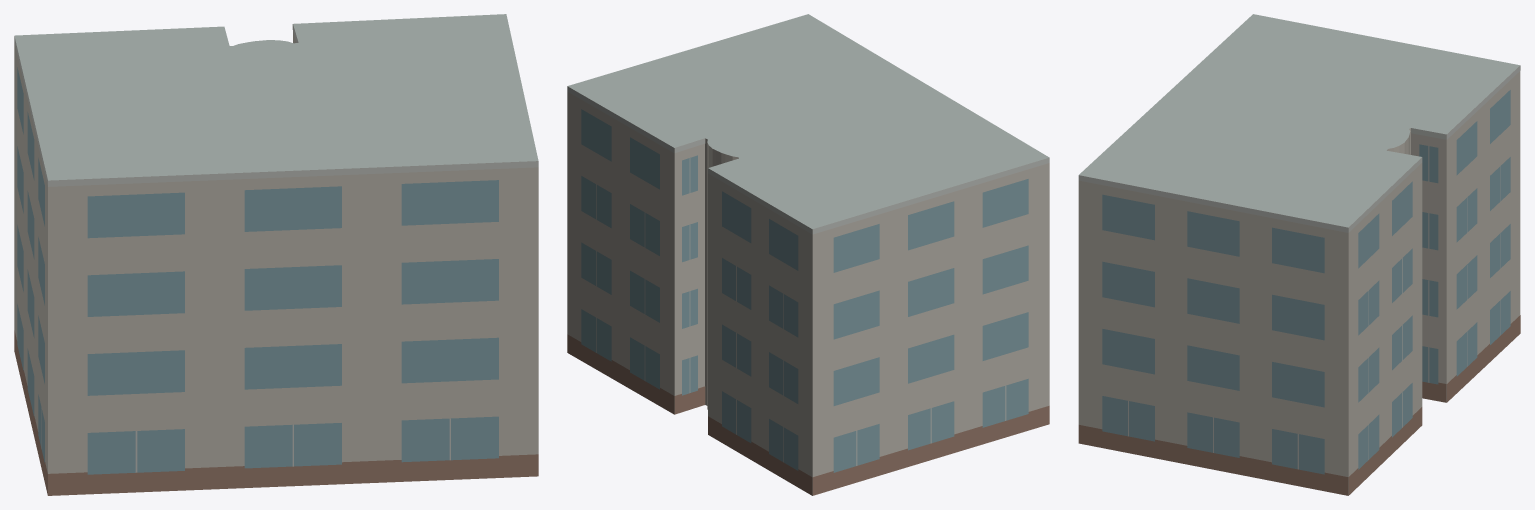
File: survey-upis-32725008.glb
3 renders of one model, left to right at view 1: azimuth 30°, elevation 25°; view 2: azimuth 150°, elevation 25°; view 3: azimuth 270°, elevation 25°, orthographic. The views are drawn at different scales.
Visible parts, largest first — view 1: survey-upis-32725008.tmp; view 2: survey-upis-32725008.tmp; view 3: survey-upis-32725008.tmp.
Boxes of the visible parts, x1=… form: survey-upis-32725008.tmp: x1=14, y1=14, x2=538, y2=495; survey-upis-32725008.tmp: x1=567, y1=14, x2=1049, y2=495; survey-upis-32725008.tmp: x1=1078, y1=14, x2=1520, y2=495.
Bounding box in the file's own units: 20.84 × 12.2 × 18.22.
